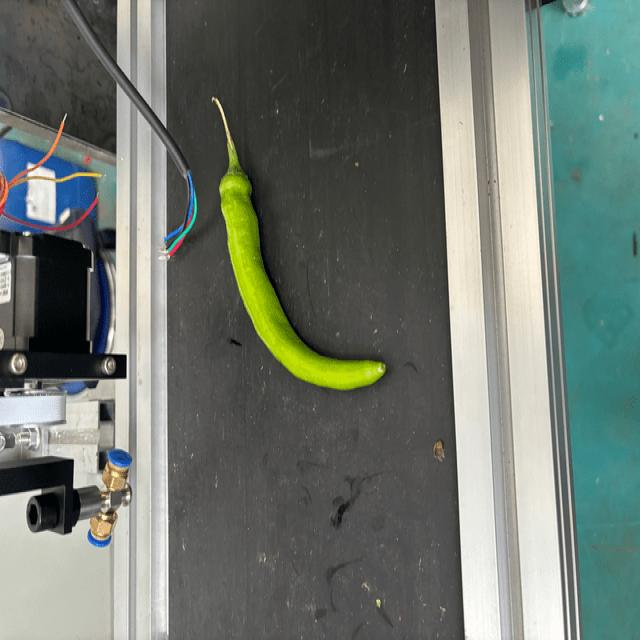chili: (216, 165, 390, 394)
